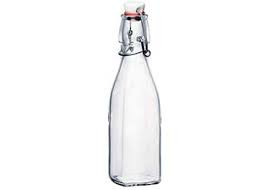glass_bottle: (105, 1, 166, 189)
